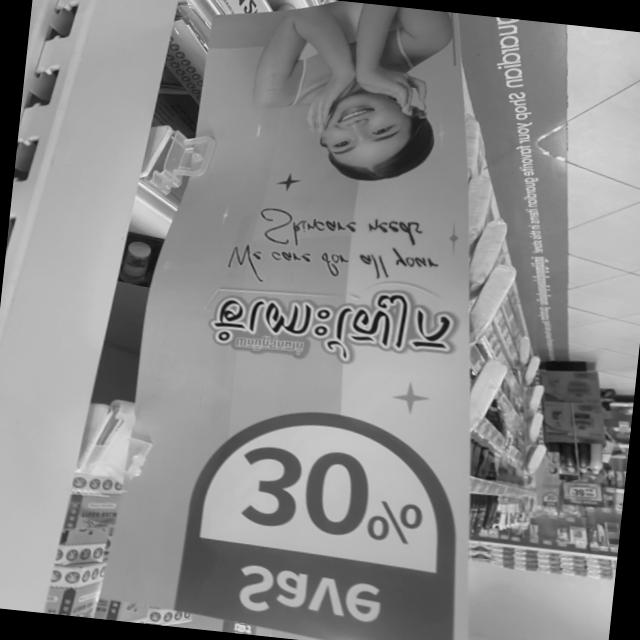710: (236, 437, 381, 543)
Yolov11kh: (209, 283, 463, 374), (363, 499, 431, 546), (234, 335, 304, 357)
